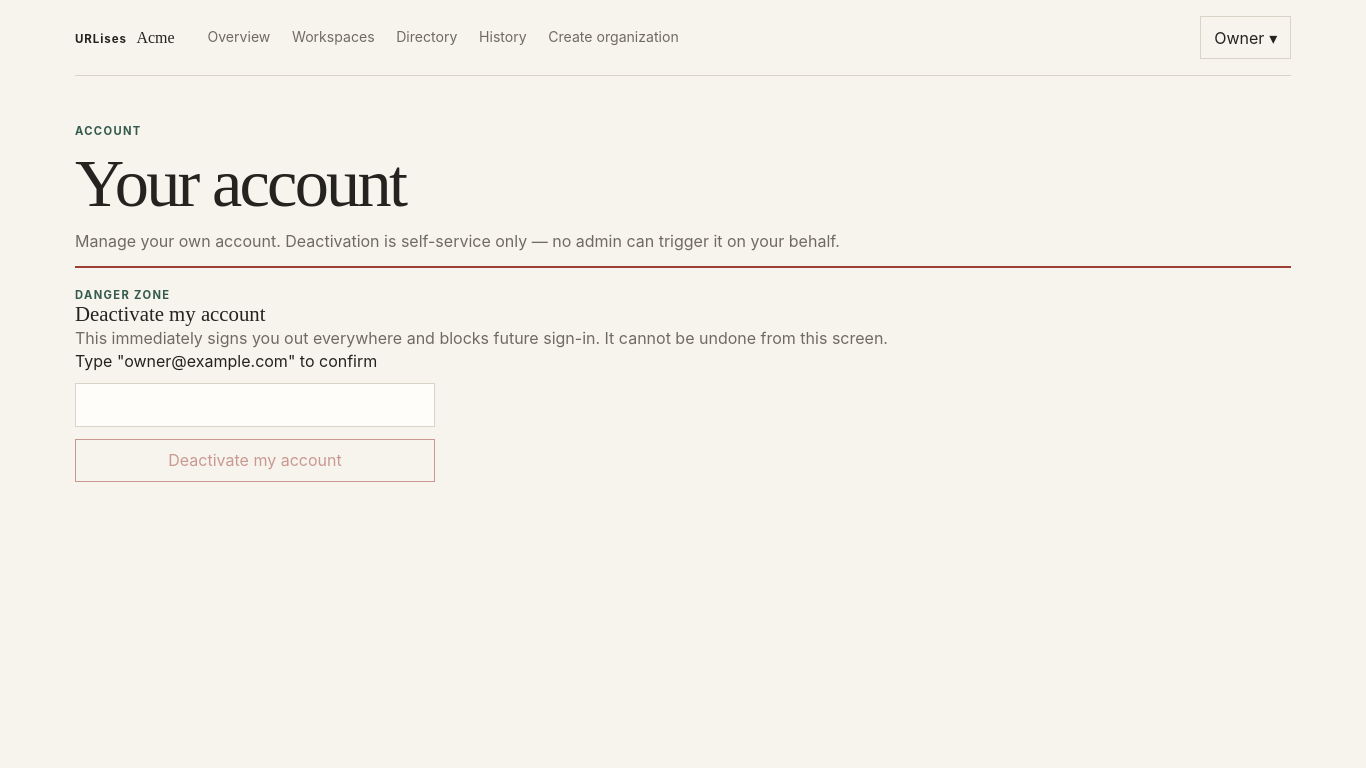
Test: account page deactivation › signs out and redirects to /login on successful deactivation
Type "owner@example.com" into the field at (255, 405), box [75,382,435,427]
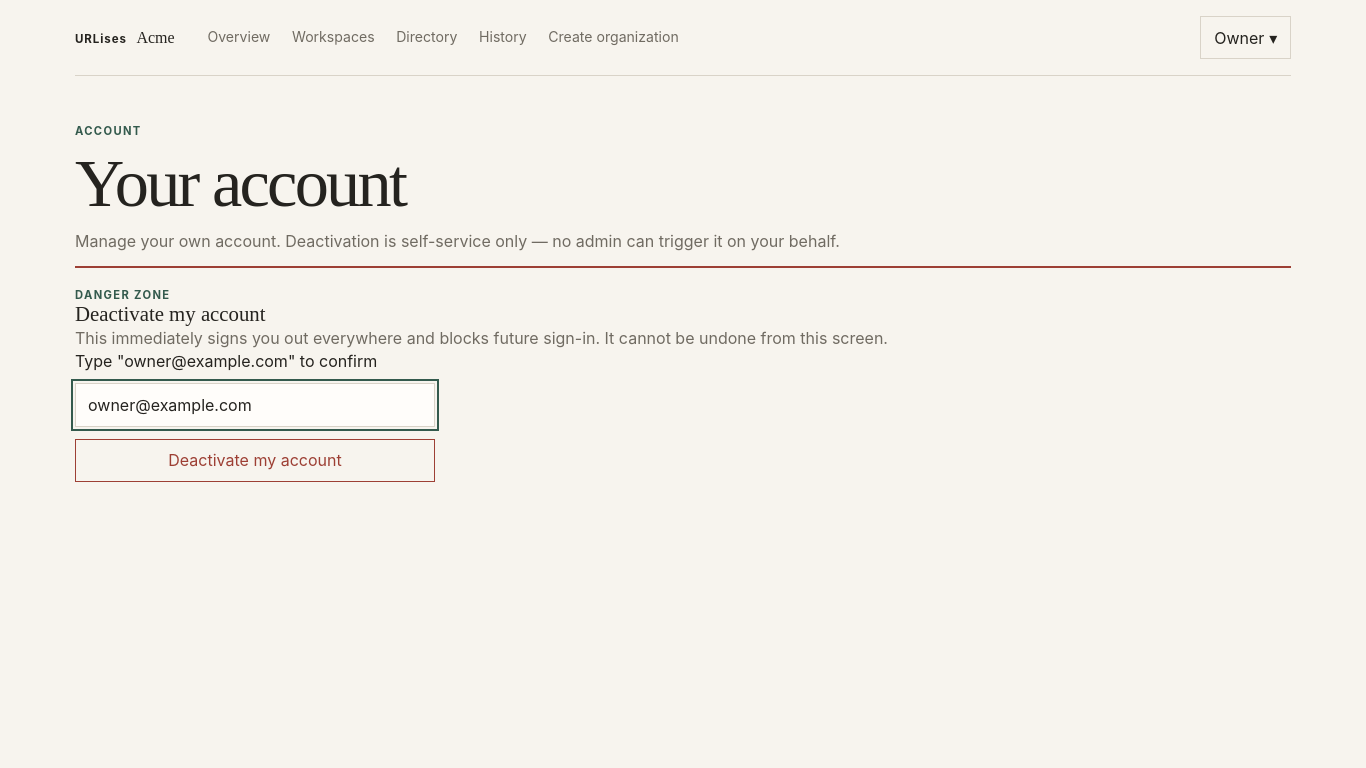
Click the button "Deactivate my account" at (255, 460), box [75,439,435,482]
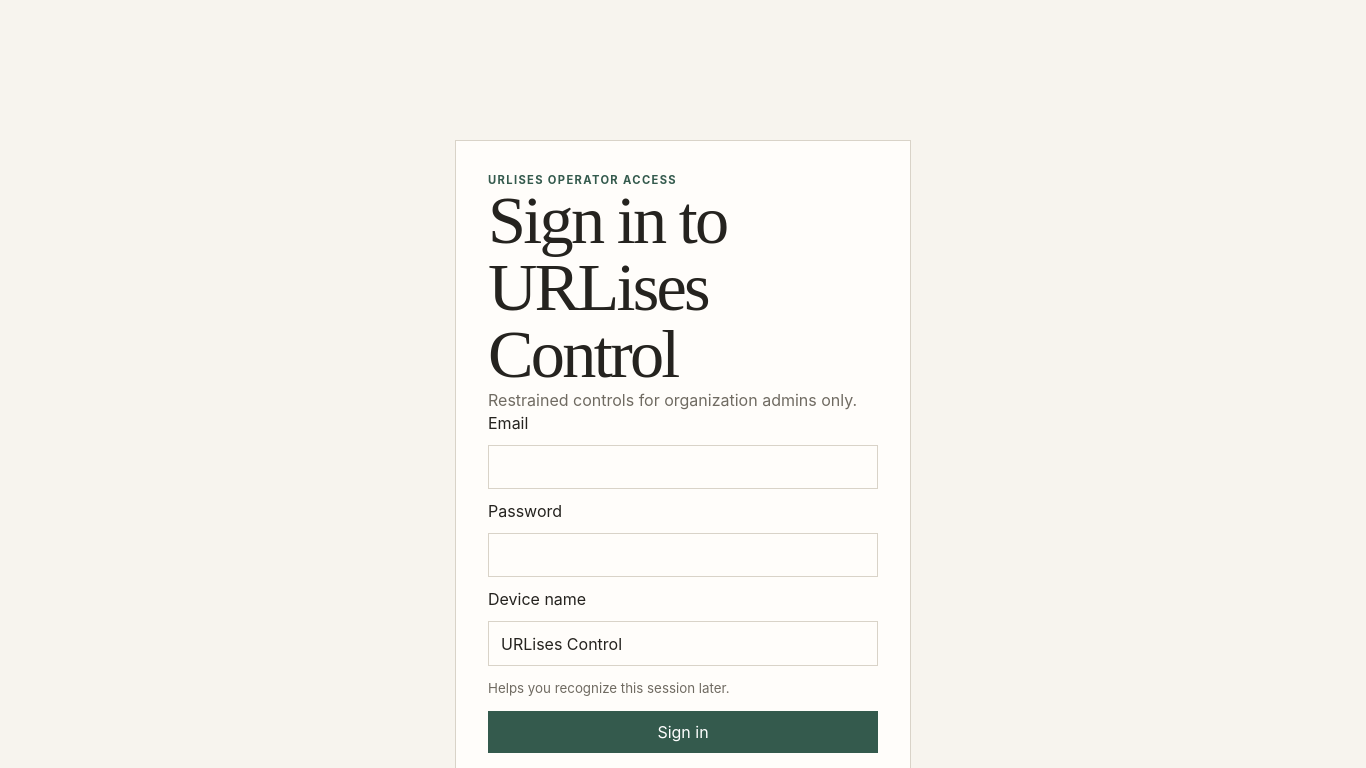
Check: the button "Sign in" is shown, box [488,710,878,753]
